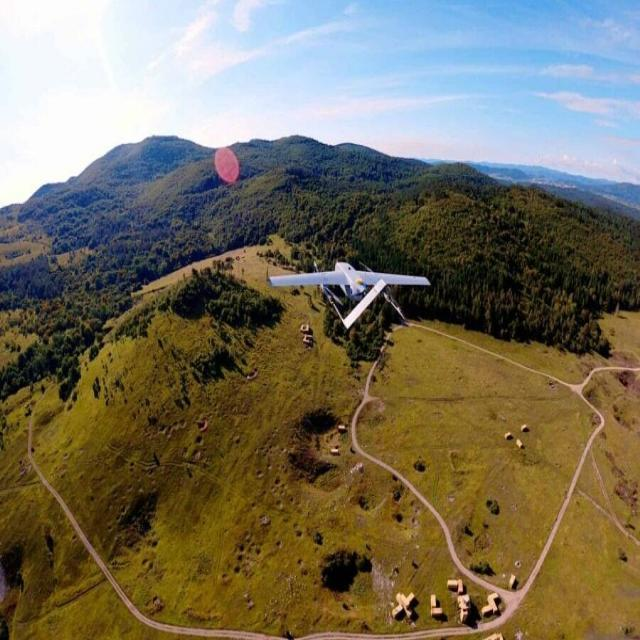iha: (260, 278, 442, 307)
